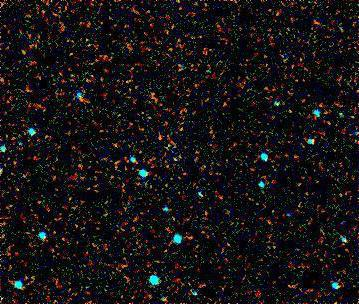star: (145, 120, 175, 150)
